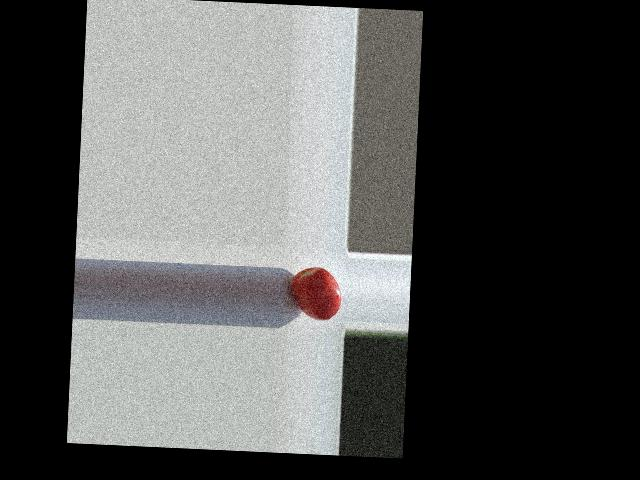tomato: (290, 266, 342, 321)
